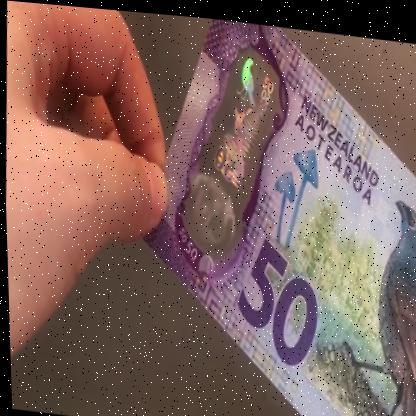50B: (178, 41, 278, 250)
